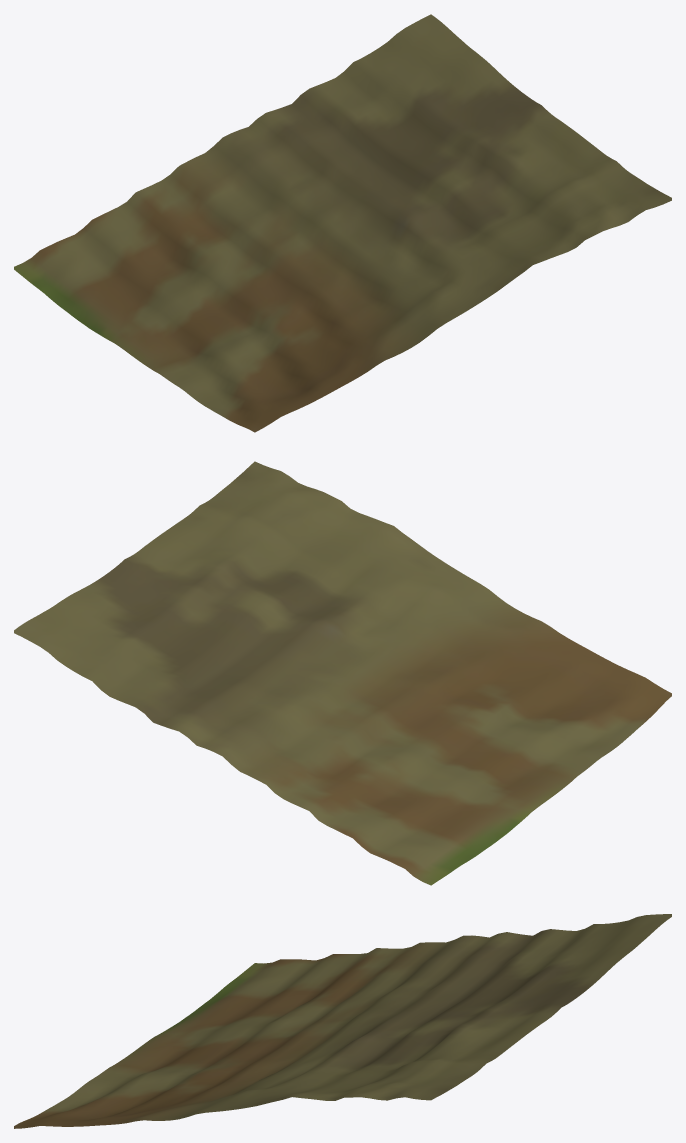
Rendered from land_m_09_08.glb.
3 renders of one model, top to bottom at view 1: azimuth 30°, elevation 25°; view 2: azimuth 150°, elevation 25°; view 3: azimuth 330°, elevation 25°, orthographic.
Parts seen in each view (by area): view 1: land_m_09_08; view 2: land_m_09_08; view 3: land_m_09_08.
Part boxes in pixels (box(x1,y1,x2,y2)): land_m_09_08: box(14, 14, 671, 432); land_m_09_08: box(14, 461, 671, 885); land_m_09_08: box(14, 914, 671, 1128).
Size of the model in its own units: 960 by 347 by 960.
